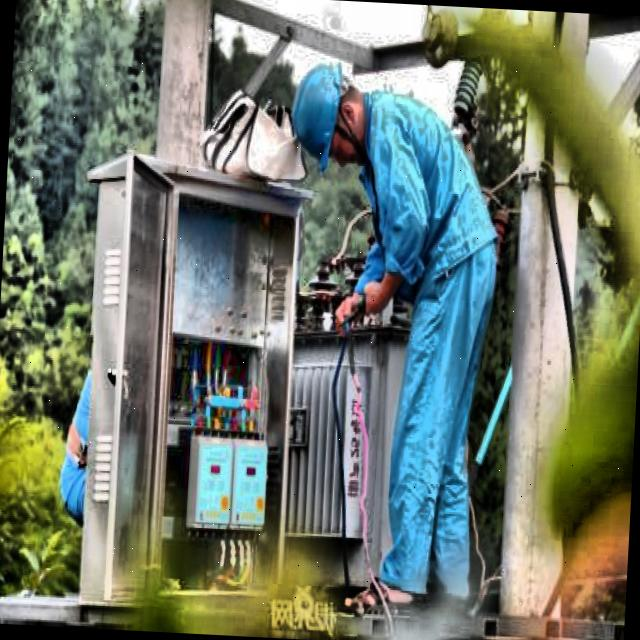helmet: (282, 52, 361, 172)
